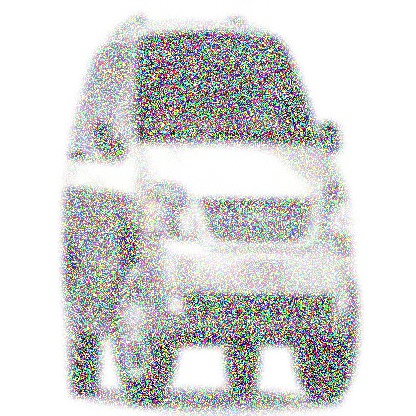Vehicle: (64, 19, 363, 412)
